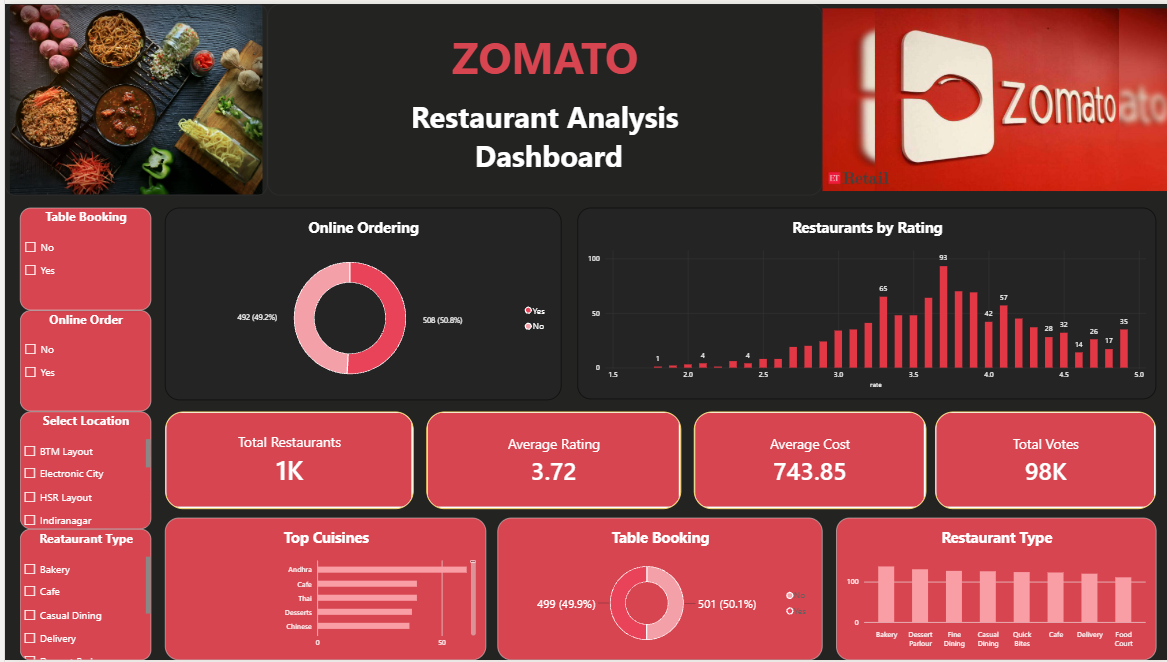

The page's visual inventory and layout, read from the dashboard file:
{"tool":"powerbi","page":{"name":"Page 1","canvas":[1920,1080],"ordinal":0},"visuals":[{"type":"cardVisual","fields":{"Data":["DateTable.Average Rating"]},"box":[693.7,671,419.9,160.5],"z":0},{"type":"cardVisual","fields":{"Data":["DateTable.Average Cost"]},"box":[1134.1,671,382.8,160.5],"z":1000},{"type":"cardVisual","fields":{"Data":["DateTable.Total Votes"]},"box":[1531.4,671,364.3,160.5],"z":2000},{"type":"clusteredColumnChart","title":"Restaurant Type","fields":{"Category":["Zomato_Restaurant_Analysis_Cleaned (1).rest_type"],"Y":["Count(Zomato_Restaurant_Analysis_Cleaned (1).restaurant_id)"]},"box":[1368.8,846,526.9,234.6],"z":4000},{"type":"donutChart","title":"Online Ordering","fields":{"Category":["Zomato_Restaurant_Analysis_Cleaned (1).online_order"],"Y":["Count(Zomato_Restaurant_Analysis_Cleaned (1).restaurant_id)"]},"box":[263.5,335.5,652.5,317],"z":5000},{"type":"clusteredColumnChart","title":"Restaurants by Rating ","fields":{"Category":["Zomato_Restaurant_Analysis_Cleaned (1).rate"],"Y":["CountNonNull(Zomato_Restaurant_Analysis_Cleaned (1).restaurant_id)"]},"box":[942.7,335.5,953,314.9],"z":6000},{"type":"donutChart","title":"Table Booking","fields":{"Category":["Zomato_Restaurant_Analysis_Cleaned (1).book_table"],"Y":["CountNonNull(Zomato_Restaurant_Analysis_Cleaned (1).restaurant_id)"]},"box":[811,846,535.2,234.6],"z":7000},{"type":"clusteredBarChart","title":"Top Cuisines","fields":{"Category":["Zomato_Restaurant_Analysis_Cleaned (1).cuisines"],"Y":["CountNonNull(Zomato_Restaurant_Analysis_Cleaned (1).restaurant_id)"]},"box":[263,846,529,234.6],"z":8000},{"type":"cardVisual","fields":{"Data":["DateTable.Total Restaurants"]},"box":[263.5,671,409.6,160.5],"z":9000},{"type":"slicer","title":"Select Location","fields":{"Values":["Zomato_Restaurant_Analysis_Cleaned (1).location"]},"box":[24.7,671,216.1,193.5],"z":10000},{"type":"slicer","title":"Reataurant Type","fields":{"Values":["Zomato_Restaurant_Analysis_Cleaned (1).rest_type"]},"box":[24.7,864.5,216.1,216.1],"z":11000},{"type":"textbox","box":[432.2,0,913.9,314.9],"z":12000},{"type":"slicer","title":"Online Order","fields":{"Values":["Zomato_Restaurant_Analysis_Cleaned (1).online_order"]},"box":[24.7,504.3,216.1,166.7],"z":13000},{"type":"slicer","title":"Table Booking","fields":{"Values":["Zomato_Restaurant_Analysis_Cleaned (1).book_table"]},"box":[24.7,335.5,216.1,168.8],"z":14000},{"type":"image","box":[0,0,432.2,314.9],"z":15001},{"type":"image","box":[1346.1,0,574.3,314.9],"z":15002}]}

Visuals, with their boxes in screenshot pixels (x1, y1, x2, y2), scaled from the page's 1920x1080 canvas onto the 1167x662 screenshot:
cardVisual - DateTable.Average Rating: locate(422, 411, 677, 510)
cardVisual - DateTable.Average Cost: locate(689, 411, 922, 510)
cardVisual - DateTable.Total Votes: locate(931, 411, 1152, 510)
"Restaurant Type" clusteredColumnChart: locate(832, 519, 1152, 661)
"Online Ordering" donutChart: locate(160, 206, 557, 400)
"Restaurants by Rating " clusteredColumnChart: locate(573, 206, 1152, 399)
"Table Booking" donutChart: locate(493, 519, 818, 661)
"Top Cuisines" clusteredBarChart: locate(160, 519, 481, 661)
cardVisual - DateTable.Total Restaurants: locate(160, 411, 409, 510)
"Select Location" slicer: locate(15, 411, 146, 530)
"Reataurant Type" slicer: locate(15, 530, 146, 661)
textbox: locate(263, 0, 818, 193)
"Online Order" slicer: locate(15, 309, 146, 411)
"Table Booking" slicer: locate(15, 206, 146, 309)
image: locate(0, 0, 263, 193)
image: locate(818, 0, 1166, 193)
